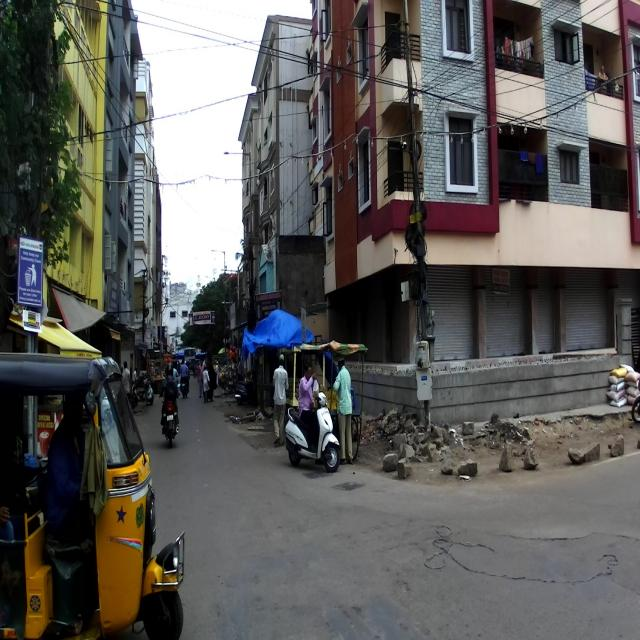autorickshaw: (0, 354, 186, 639)
scooter: (285, 391, 342, 471)
